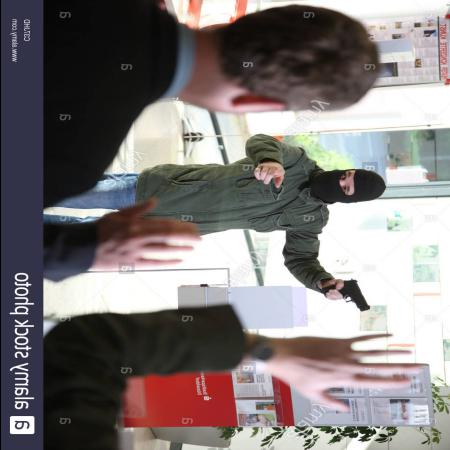Pistol: (320, 280, 372, 312)
